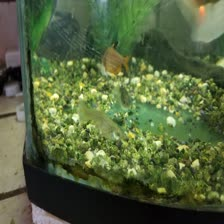Guppy: (74, 98, 129, 142)
Transparente: (98, 41, 135, 75)
